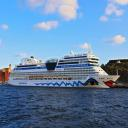cruises: (8, 46, 122, 91)
